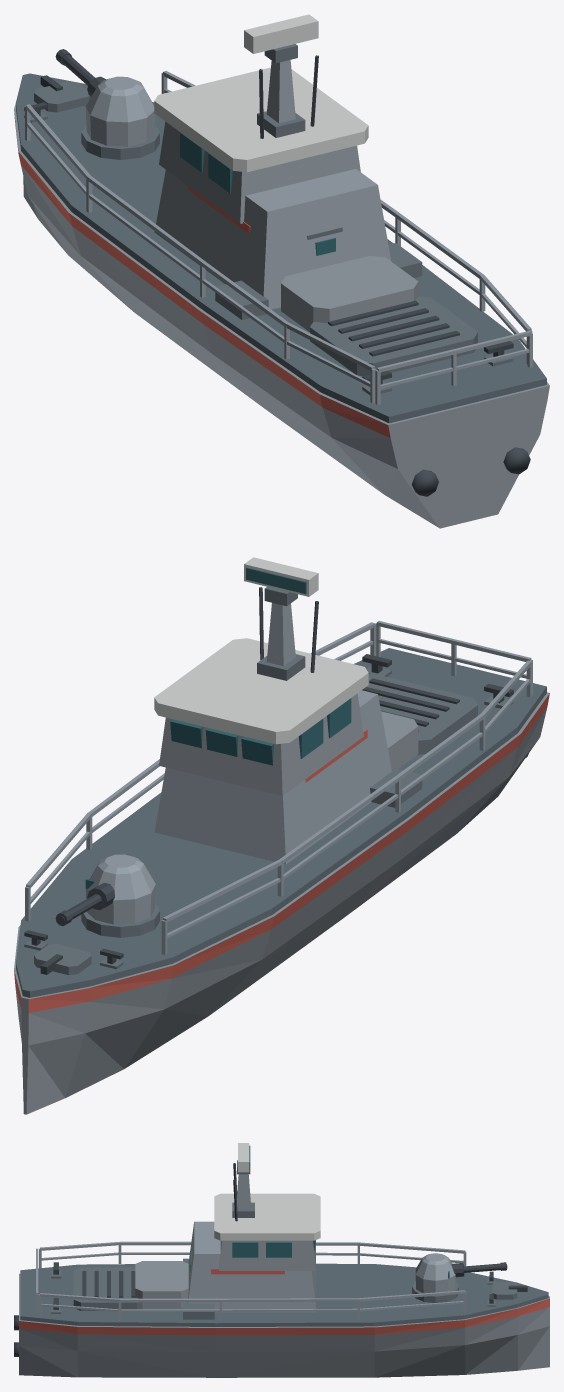
Rendered from EnemyFastBoat.fbx.
The picture shows the model from 3 angles, top to bottom: view 1: azimuth 30°, elevation 25°; view 2: azimuth 150°, elevation 25°; view 3: azimuth 270°, elevation 25°; orthographic projection. The views are drawn at different scales.
Visible parts, largest first — view 1: EnemyFastBoat_Visual, PrimaryGunPivot_Visual, RadarPivot_Visual, GunElevationPivot_Visual; view 2: EnemyFastBoat_Visual, PrimaryGunPivot_Visual, RadarPivot_Visual, GunElevationPivot_Visual; view 3: EnemyFastBoat_Visual, PrimaryGunPivot_Visual, GunElevationPivot_Visual, RadarPivot_Visual.
Part boxes in pixels (x1=…): EnemyFastBoat_Visual: x1=14, y1=44, x2=549, y2=528; PrimaryGunPivot_Visual: x1=85, y1=76, x2=155, y2=146; RadarPivot_Visual: x1=244, y1=14, x2=318, y2=53; GunElevationPivot_Visual: x1=55, y1=49, x2=105, y2=96; EnemyFastBoat_Visual: x1=14, y1=587, x2=549, y2=1114; PrimaryGunPivot_Visual: x1=85, y1=854, x2=155, y2=924; RadarPivot_Visual: x1=244, y1=557, x2=318, y2=596; GunElevationPivot_Visual: x1=55, y1=882, x2=114, y2=925; EnemyFastBoat_Visual: x1=14, y1=1160, x2=549, y2=1377; PrimaryGunPivot_Visual: x1=415, y1=1253, x2=455, y2=1293; GunElevationPivot_Visual: x1=451, y1=1262, x2=507, y2=1277; RadarPivot_Visual: x1=238, y1=1143, x2=250, y2=1172.
Bounding box in the file's own units: 142 × 232 × 525.
